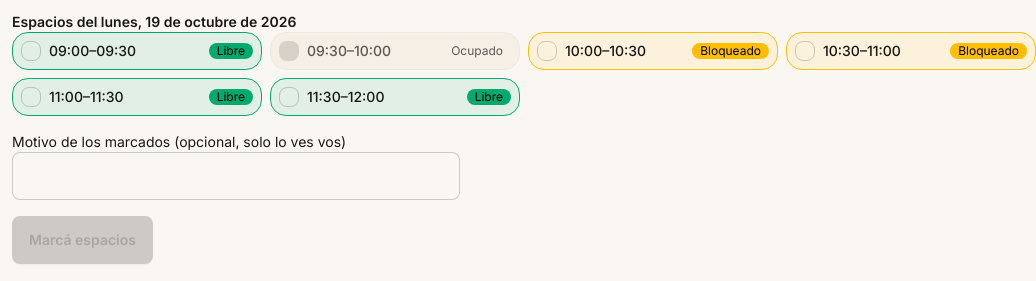
SlotPicker — US-AGE-07, criterio 1: bloquear espacios › se marcan espacios que no son seguidos y el botón dice cuántos se bloquean
The width and height of the screenshot is (1036, 281).
Check: the button "Marcá espacios" is shown, box [12, 216, 153, 264]
Check: the button "Marcá espacios" is disabled, box [12, 216, 153, 264]
Click the checkbox labelled "09:00–09:30 Libre".
click(31, 51)  # box [21, 41, 41, 61]
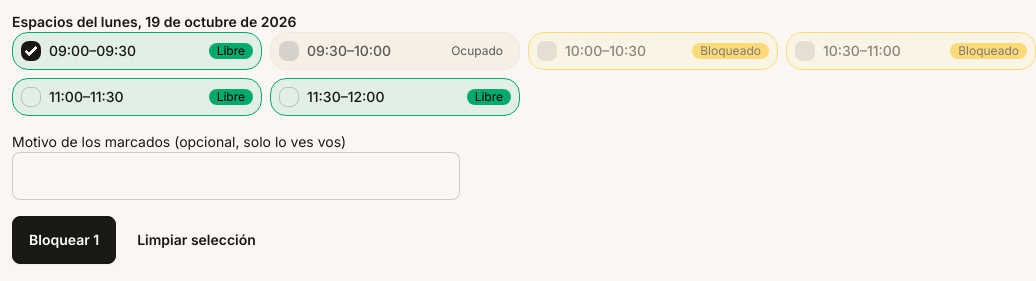
Click the checkbox labelled "11:00–11:30 Libre".
click(31, 97)  # box [21, 87, 41, 107]
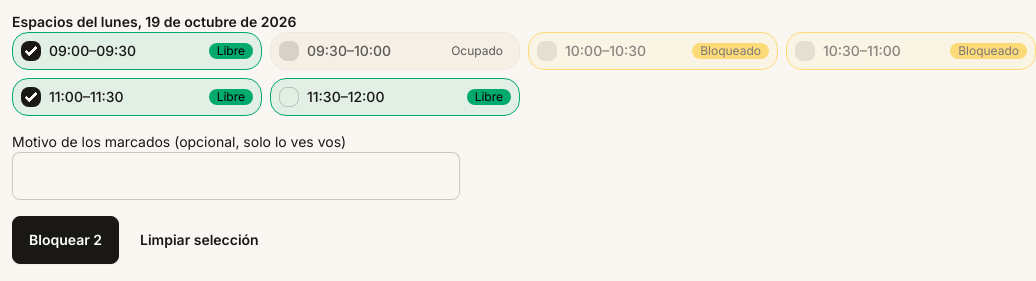
Check: the field labelled "Motivo de los marcados (opcional, solo lo ves vos)" is shown, box [12, 152, 460, 200]
Check: the button "Bloquear 2" is enabled, box [12, 216, 119, 264]
Check: the button "Bloquear 2" is shown, box [12, 216, 119, 264]
